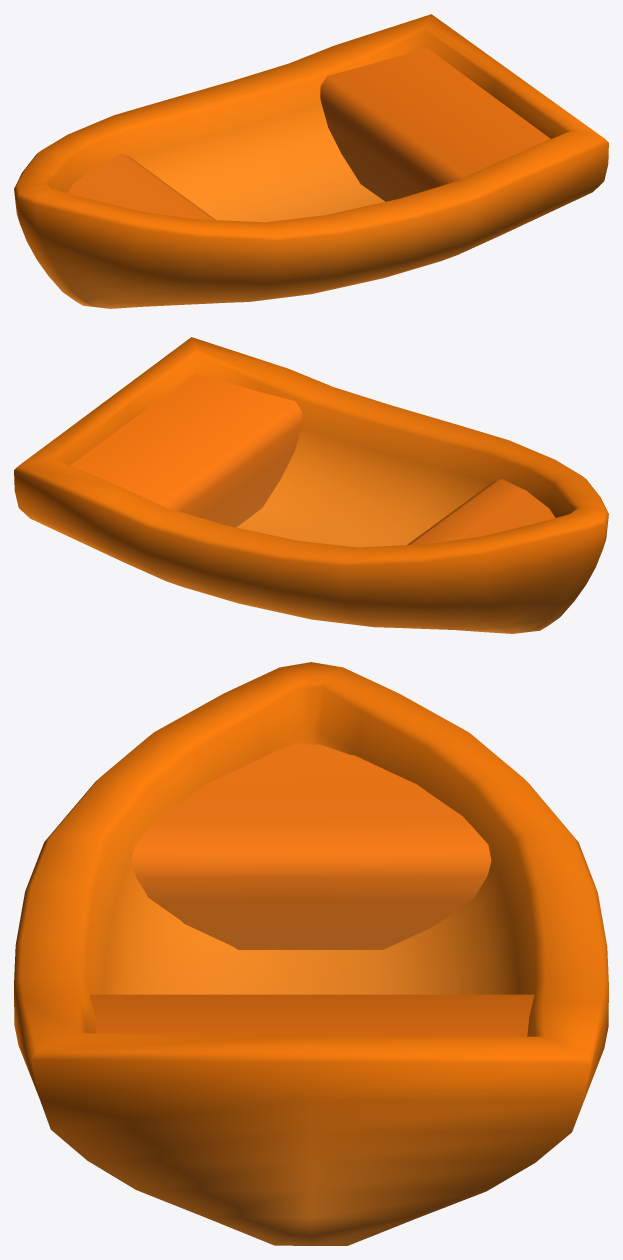
File: Prop_Wooden_Boat_01.fbx
The picture shows the model from 3 angles, top to bottom: view 1: azimuth 30°, elevation 25°; view 2: azimuth 150°, elevation 25°; view 3: azimuth 270°, elevation 25°; orthographic projection. The views are drawn at different scales.
Visible parts, largest first — view 1: Prop_Wooden_Boat_01; view 2: Prop_Wooden_Boat_01; view 3: Prop_Wooden_Boat_01.
Boxes of the visible parts, x1=… form: Prop_Wooden_Boat_01: x1=14, y1=14, x2=608, y2=308; Prop_Wooden_Boat_01: x1=14, y1=337, x2=608, y2=633; Prop_Wooden_Boat_01: x1=14, y1=662, x2=608, y2=1245.
Bounding box in the file's own units: 198 × 55.67 × 127.
